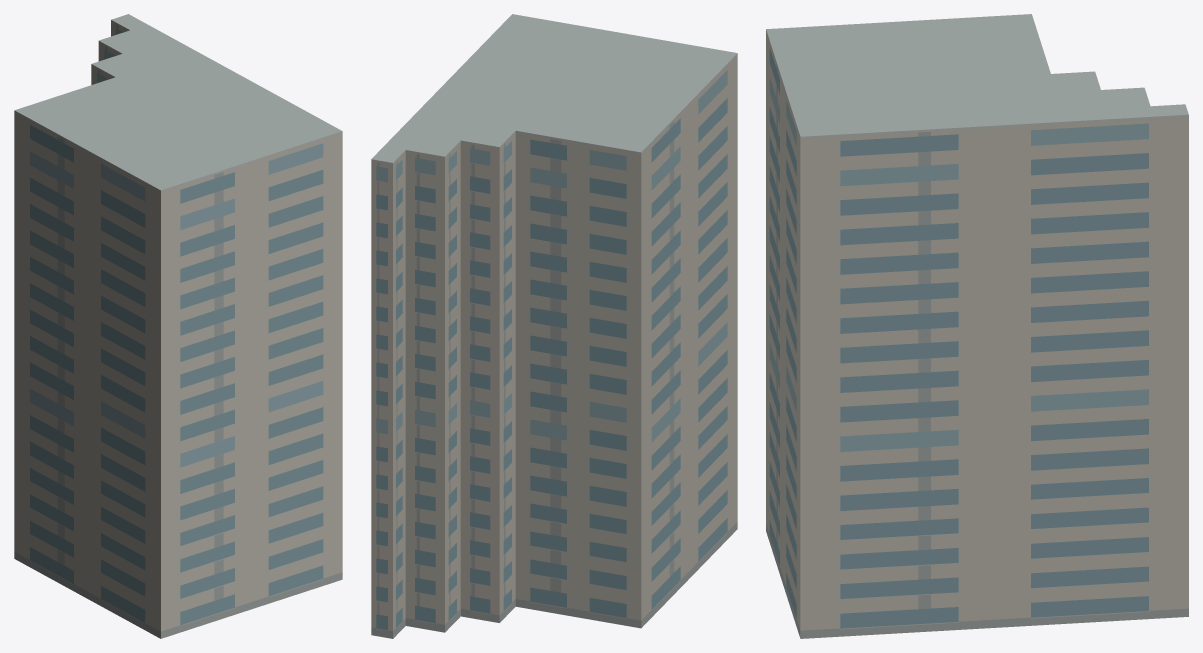
The model's file is residential-2585cfc3-87f0-42e9-810f-c345e355b82c.glb.
The picture shows the model from 3 angles, left to right: view 1: azimuth 30°, elevation 25°; view 2: azimuth 150°, elevation 25°; view 3: azimuth 270°, elevation 25°; orthographic projection. The views are drawn at different scales.
Parts seen in each view (by area): view 1: residential-2585cfc3-87f0-42e9-810f-c345e355b82c.tmp; view 2: residential-2585cfc3-87f0-42e9-810f-c345e355b82c.tmp; view 3: residential-2585cfc3-87f0-42e9-810f-c345e355b82c.tmp.
Boxes of the visible parts, x1=… form: residential-2585cfc3-87f0-42e9-810f-c345e355b82c.tmp: x1=14, y1=14, x2=342, y2=638; residential-2585cfc3-87f0-42e9-810f-c345e355b82c.tmp: x1=371, y1=14, x2=737, y2=638; residential-2585cfc3-87f0-42e9-810f-c345e355b82c.tmp: x1=766, y1=14, x2=1188, y2=638.
Bounding box in the file's own units: 27.2 × 51.85 × 39.57.
